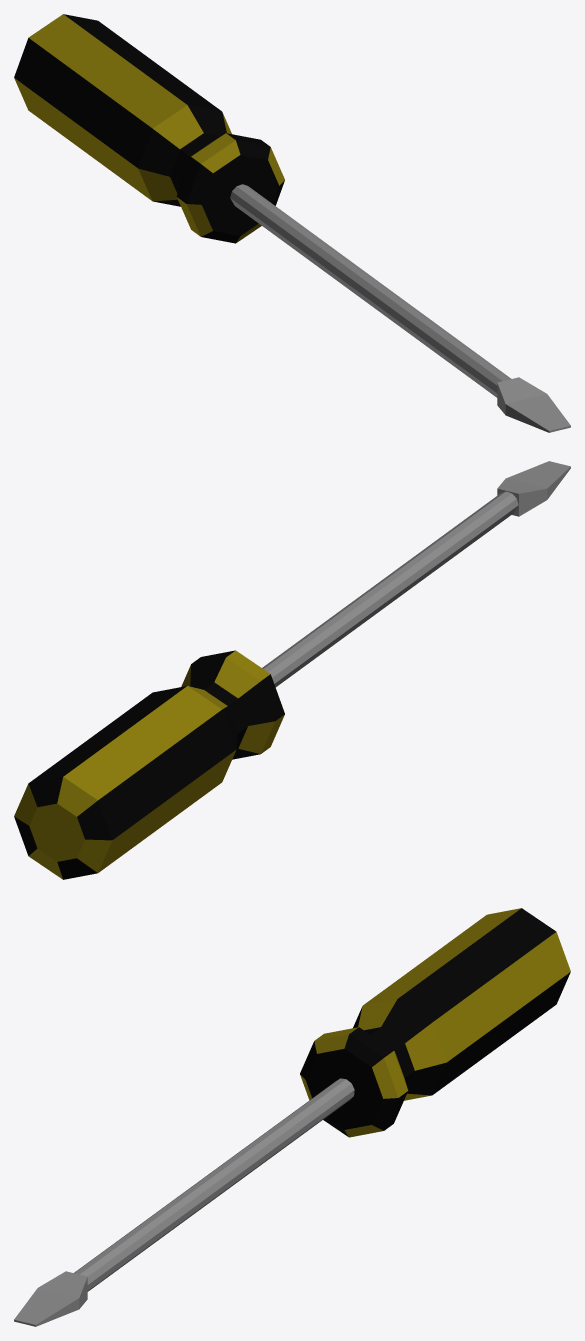
Rendered from Screwdriver_Single.dae.
The picture shows the model from 3 angles, top to bottom: view 1: azimuth 30°, elevation 25°; view 2: azimuth 150°, elevation 25°; view 3: azimuth 330°, elevation 25°; orthographic projection.
Parts seen in each view (by area): view 1: Screwdriver_Single (×3); view 2: Screwdriver_Single (×3); view 3: Screwdriver_Single (×3).
Part boxes in pixels (bbox=[...]): Screwdriver_Single (×3): bbox=[14, 14, 570, 432]; Screwdriver_Single (×3): bbox=[14, 461, 570, 879]; Screwdriver_Single (×3): bbox=[14, 908, 570, 1326].
Bounding box in the file's own units: 0.0703 × 0.0703 × 0.6205.
